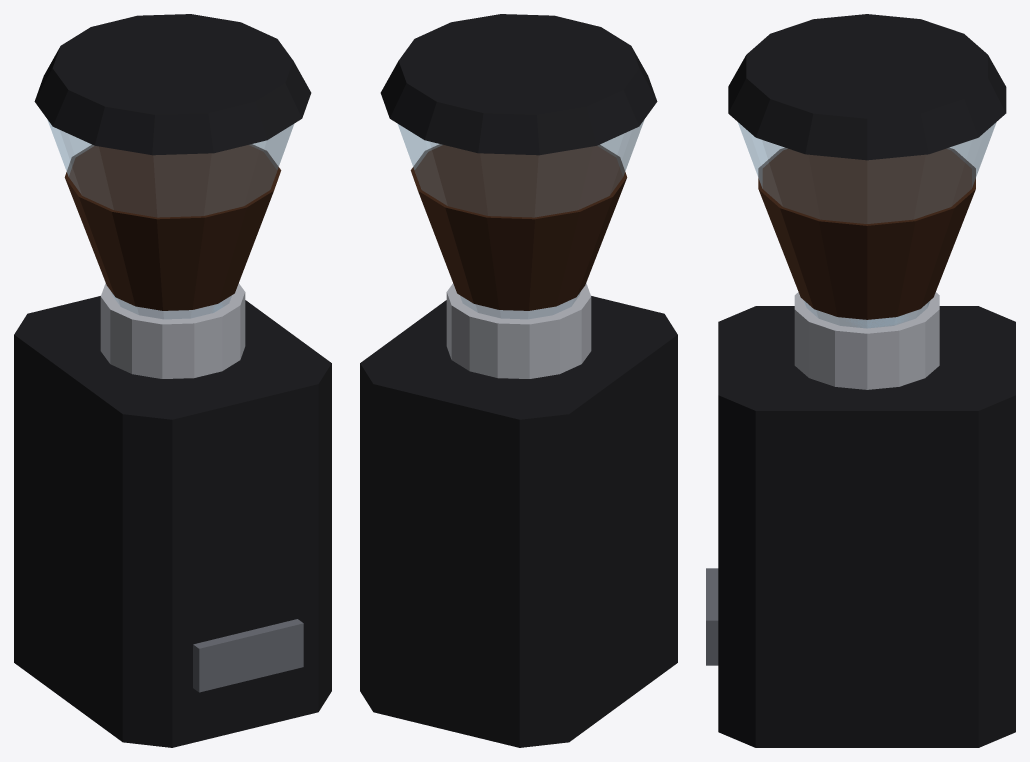
Rendered from coffee_grinder.obj.
The picture shows the model from 3 angles, left to right: view 1: azimuth 30°, elevation 25°; view 2: azimuth 150°, elevation 25°; view 3: azimuth 270°, elevation 25°; orthographic projection. The views are drawn at different scales.
Visible parts, largest first — view 1: coffee_grinder; view 2: coffee_grinder; view 3: coffee_grinder.
Part boxes in pixels (x1,y1,x2,y2): coffee_grinder: [14, 14, 331, 747]; coffee_grinder: [360, 14, 677, 747]; coffee_grinder: [706, 14, 1015, 747].
Size of the model in its own units: 0.23 by 0.56 by 0.25.
